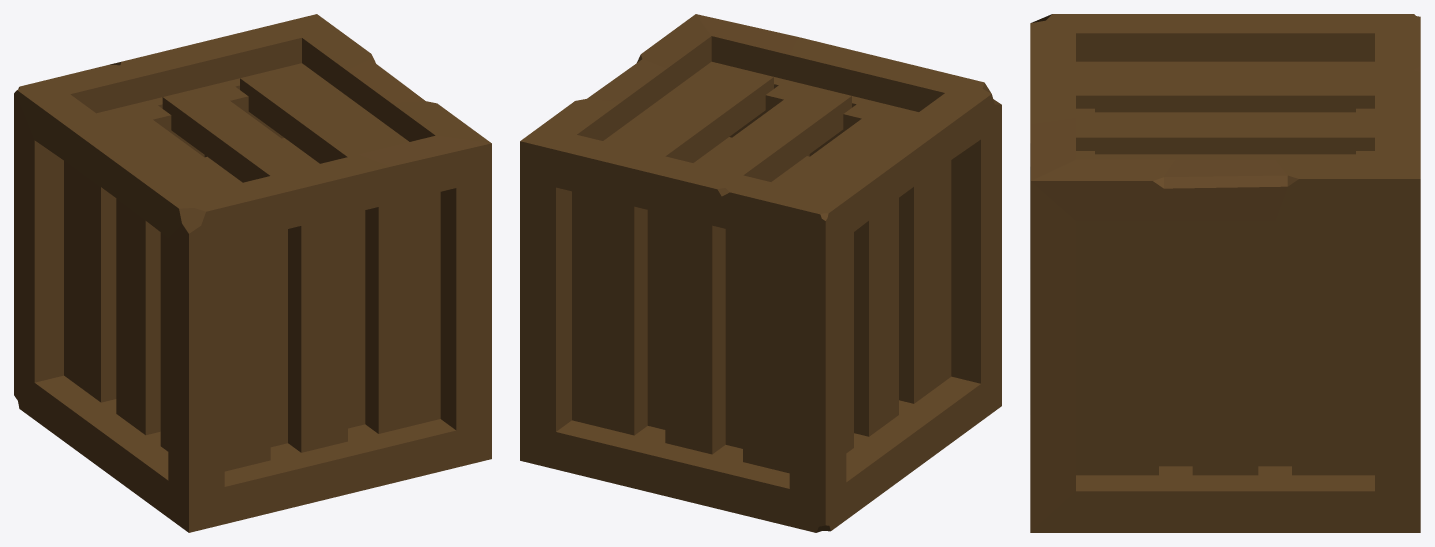
The model's file is Crate.fbx.
3 views of the same model, side by side, from view 1: azimuth 30°, elevation 25°; view 2: azimuth 150°, elevation 25°; view 3: azimuth 270°, elevation 25° (orthographic). The views are drawn at different scales.
Visible parts, largest first — view 1: Crate; view 2: Crate; view 3: Crate.
Boxes of the visible parts, box(x1,y1,x2,y2) form: Crate: box(14, 14, 491, 532); Crate: box(520, 14, 1001, 532); Crate: box(1030, 14, 1420, 532).
Bounding box in the file's own units: 200 × 200 × 200.
